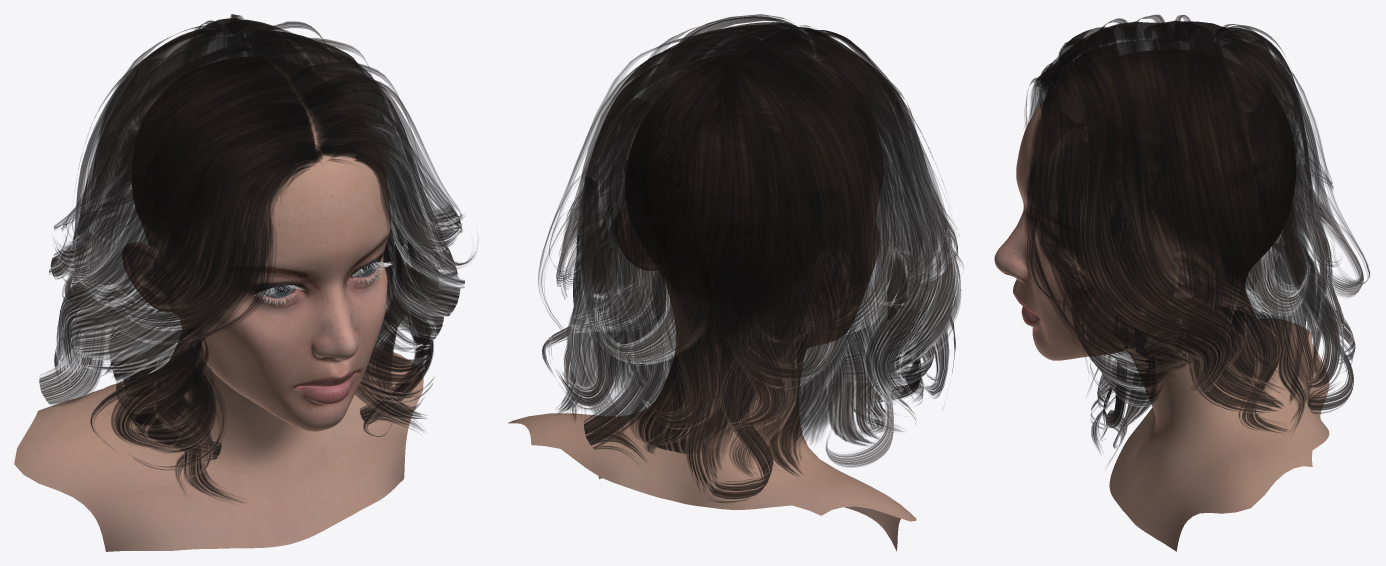
File: angelica.glb
The picture shows the model from 3 angles, left to right: view 1: azimuth 30°, elevation 25°; view 2: azimuth 150°, elevation 25°; view 3: azimuth 270°, elevation 25°; orthographic projection. The views are drawn at different scales.
Parts seen in each view (by area): view 1: Hair_Hair_0, Head_Head_0, Eyelashes_Eyelashes_0, Eye_Eye_0; view 2: Hair_Hair_0, Head_Head_0; view 3: Hair_Hair_0, Head_Head_0.
Boxes of the visible parts, x1,y1,x2,y2 form: Hair_Hair_0: (39, 14, 477, 502); Head_Head_0: (14, 57, 423, 551); Eyelashes_Eyelashes_0: (254, 261, 391, 304); Eye_Eye_0: (261, 262, 377, 298); Hair_Hair_0: (538, 14, 963, 502); Head_Head_0: (508, 50, 916, 551); Hair_Hair_0: (1024, 14, 1369, 464); Head_Head_0: (994, 50, 1329, 551).
Size of what is drawn, in the model's own units: 171 by 193 by 146.
Materials: 5 (4 with a texture image).
